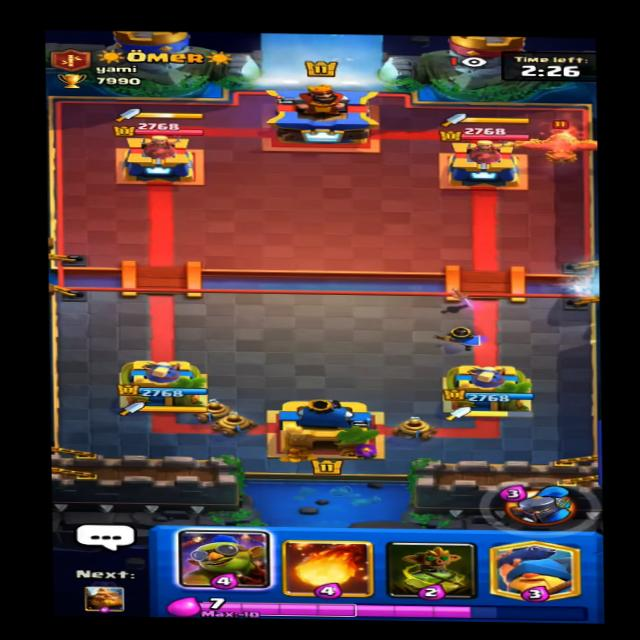phoenix: (502, 117, 609, 166)
